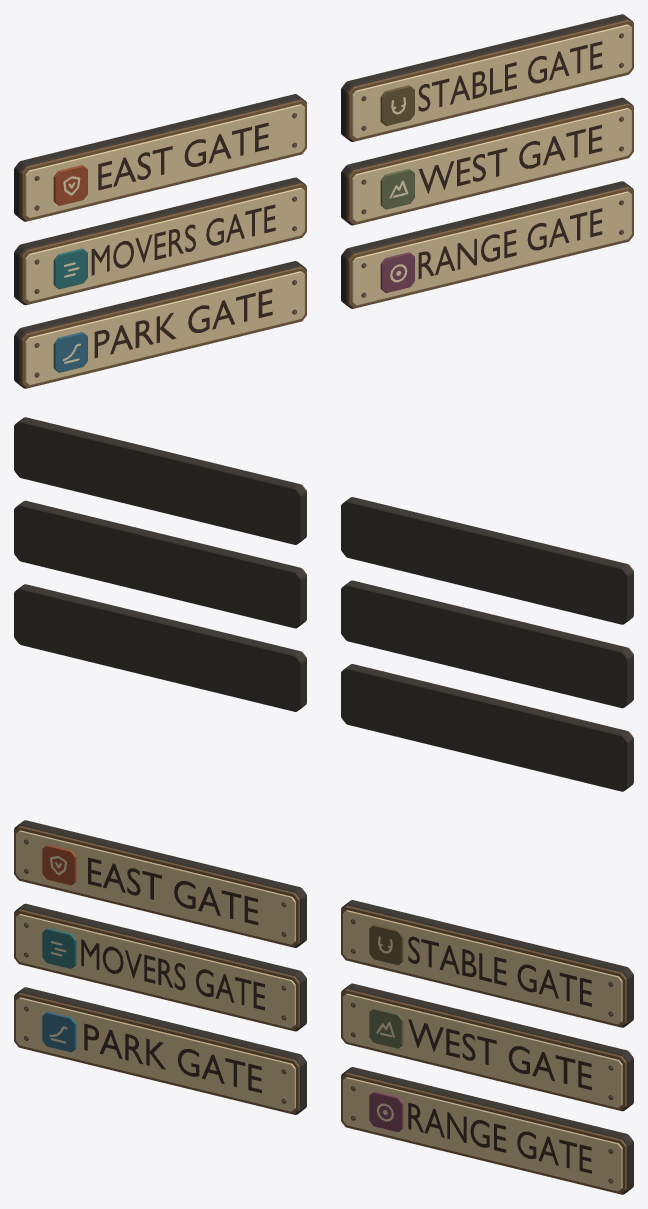
File: w0b-town-gate-nameplates.glb
The picture shows the model from 3 angles, top to bottom: view 1: azimuth 30°, elevation 25°; view 2: azimuth 150°, elevation 25°; view 3: azimuth 330°, elevation 25°; orthographic projection.
Parts seen in each view (by area): view 1: Frame · East, Frame · West, Frame · Stable, Frame · Park, Frame · Range, Frame · Movers, Range face, Movers face, Stable face, Park face, West face, East face; view 2: Frame · Movers, Frame · Stable, Frame · Range, Frame · East, Frame · West, Frame · Park; view 3: Frame · West, Frame · East, Frame · Park, Frame · Stable, Frame · Movers, Frame · Range, Movers face, Range face, Stable face, Park face, West face, East face.
Part boxes in pixels (<box>): Frame · East: <box>14,94,306,221</box>; Frame · West: <box>341,97,633,225</box>; Frame · Stable: <box>341,14,633,141</box>; Frame · Park: <box>14,261,306,388</box>; Frame · Range: <box>341,181,633,308</box>; Frame · Movers: <box>14,177,306,305</box>; Range face: <box>380,208,602,292</box>; Movers face: <box>53,204,275,289</box>; Stable face: <box>380,41,602,125</box>; Park face: <box>53,288,272,372</box>; West face: <box>380,124,602,209</box>; East face: <box>53,122,268,205</box>; Frame · Movers: <box>341,580,633,708</box>; Frame · Stable: <box>14,417,306,544</box>; Frame · Range: <box>14,584,306,711</box>; Frame · East: <box>341,497,633,624</box>; Frame · West: <box>14,500,306,628</box>; Frame · Park: <box>341,664,633,791</box>; Frame · West: <box>341,983,633,1111</box>; Frame · East: <box>14,820,306,947</box>; Frame · Park: <box>14,987,306,1114</box>; Frame · Stable: <box>341,900,633,1027</box>; Frame · Movers: <box>14,903,306,1031</box>; Frame · Range: <box>341,1067,633,1194</box>; Movers face: <box>42,928,264,1010</box>; Range face: <box>369,1091,591,1173</box>; Stable face: <box>369,924,591,1006</box>; Park face: <box>42,1011,261,1093</box>; West face: <box>369,1008,591,1090</box>; East face: <box>42,844,258,925</box>.
Bounding box in the file's own units: 7.09 × 2.47 × 0.198.
